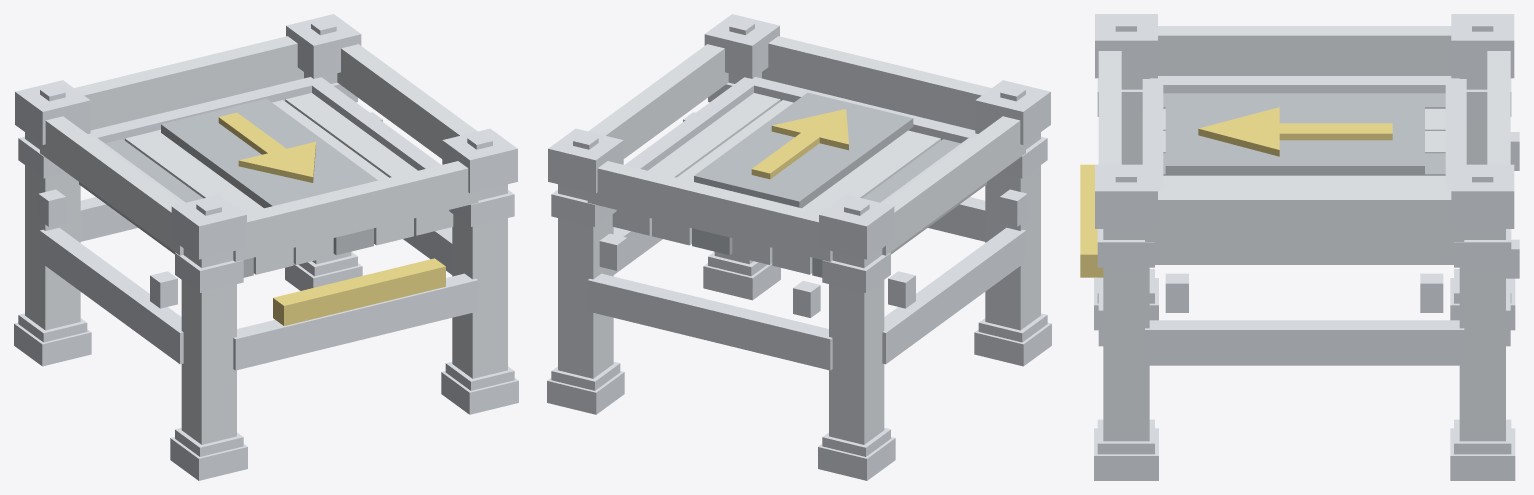
The model's file is belt_merger.gltf.
3 views of the same model, side by side, from view 1: azimuth 30°, elevation 25°; view 2: azimuth 150°, elevation 25°; view 3: azimuth 270°, elevation 25° (orthographic). The views are drawn at different scales.
Size of the model in its own units: 0.95 by 0.703 by 0.95.
